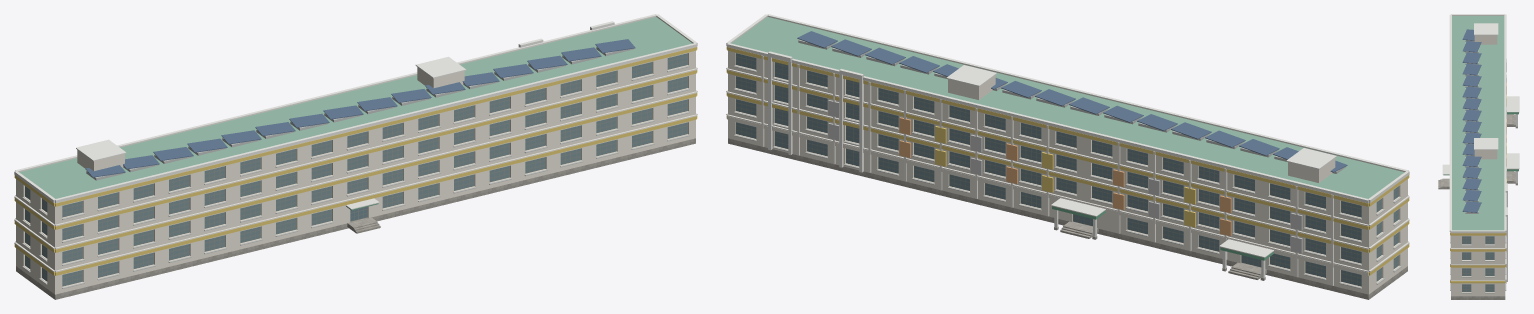
3 views of the same model, side by side, from view 1: azimuth 30°, elevation 25°; view 2: azimuth 150°, elevation 25°; view 3: azimuth 270°, elevation 25° (orthographic). The views are drawn at different scales.
Visible parts, largest first — view 1: main__panel, main__sideglass, main__roof, main__ochre, main__frame, main__cap, main__band, main__solar, main__stone, main__sill, main__steel; view 2: main__panel, main__glass, main__roof, main__cap, main__band, main__ochre, main__frame, main__solar, main__stone, main__sill, main__greybay, main__apricot (+2 smaller); view 3: main__roof, main__cap, main__panel, main__solar, main__ochre, main__sideglass, main__band, main__steel, main__frame, main__sill, main__stone, main__greencanopy (+4 smaller).
Part boxes in pixels (<box>): main__panel: <box>16,50,695,294</box>; main__sideglass: <box>25,53,687,285</box>; main__roof: <box>19,17,692,198</box>; main__ochre: <box>14,46,697,275</box>; main__frame: <box>25,53,688,286</box>; main__cap: <box>14,14,697,209</box>; main__band: <box>14,45,697,272</box>; main__solar: <box>85,39,635,177</box>; main__stone: <box>16,138,695,299</box>; main__sill: <box>22,65,689,288</box>; main__steel: <box>86,46,633,180</box>; main__panel: <box>727,50,1407,294</box>; main__glass: <box>736,53,1361,285</box>; main__roof: <box>731,17,1404,198</box>; main__cap: <box>726,14,1409,277</box>; main__band: <box>726,45,1409,285</box>; main__ochre: <box>726,46,1409,275</box>; main__frame: <box>735,53,1398,286</box>; main__solar: <box>797,31,1347,172</box>; main__stone: <box>728,138,1407,299</box>; main__sill: <box>734,65,1401,288</box>; main__greybay: <box>828,100,1302,253</box>; main__apricot: <box>899,117,1231,236</box>; main__roof: <box>1452,16,1504,230</box>; main__cap: <box>1442,14,1519,281</box>; main__panel: <box>1451,35,1506,296</box>; main__solar: <box>1462,29,1481,212</box>; main__ochre: <box>1450,95,1506,283</box>; main__sideglass: <box>1462,236,1493,291</box>; main__band: <box>1450,232,1506,283</box>; main__steel: <box>1465,31,1478,213</box>; main__frame: <box>1462,236,1494,291</box>; main__sill: <box>1450,235,1506,293</box>; main__stone: <box>1451,114,1517,299</box>; main__greencanopy: <box>1443,112,1518,175</box>.
Bounding box in the file's own units: 99.52 × 16.84 × 15.72.
Materials: 18 (1 with a texture image).
